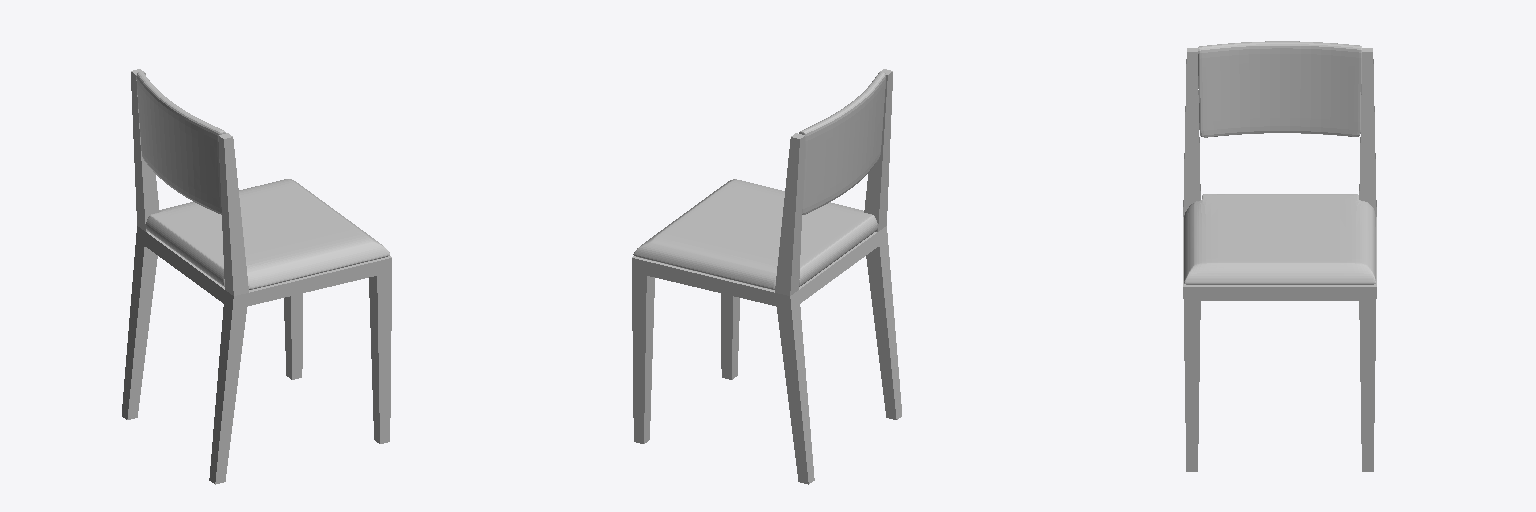
The model's file is chair.obj.
3 views of the same model, side by side, from view 1: azimuth 30°, elevation 25°; view 2: azimuth 150°, elevation 25°; view 3: azimuth 270°, elevation 25° (orthographic).
Parts seen in each view (by area): view 1: Cube.001, Cube; view 2: Cube, Cube.001; view 3: Cube.001, Cube.
Boxes of the visible parts, <box> form: Cube.001: <box>136,72,389,289</box>; Cube: <box>122,69,391,484</box>; Cube: <box>632,69,901,484</box>; Cube.001: <box>633,72,885,289</box>; Cube.001: <box>1184,41,1375,284</box>; Cube: <box>1183,48,1376,471</box>.
Size of the model in its own units: 1.97 by 3.7 by 1.87.